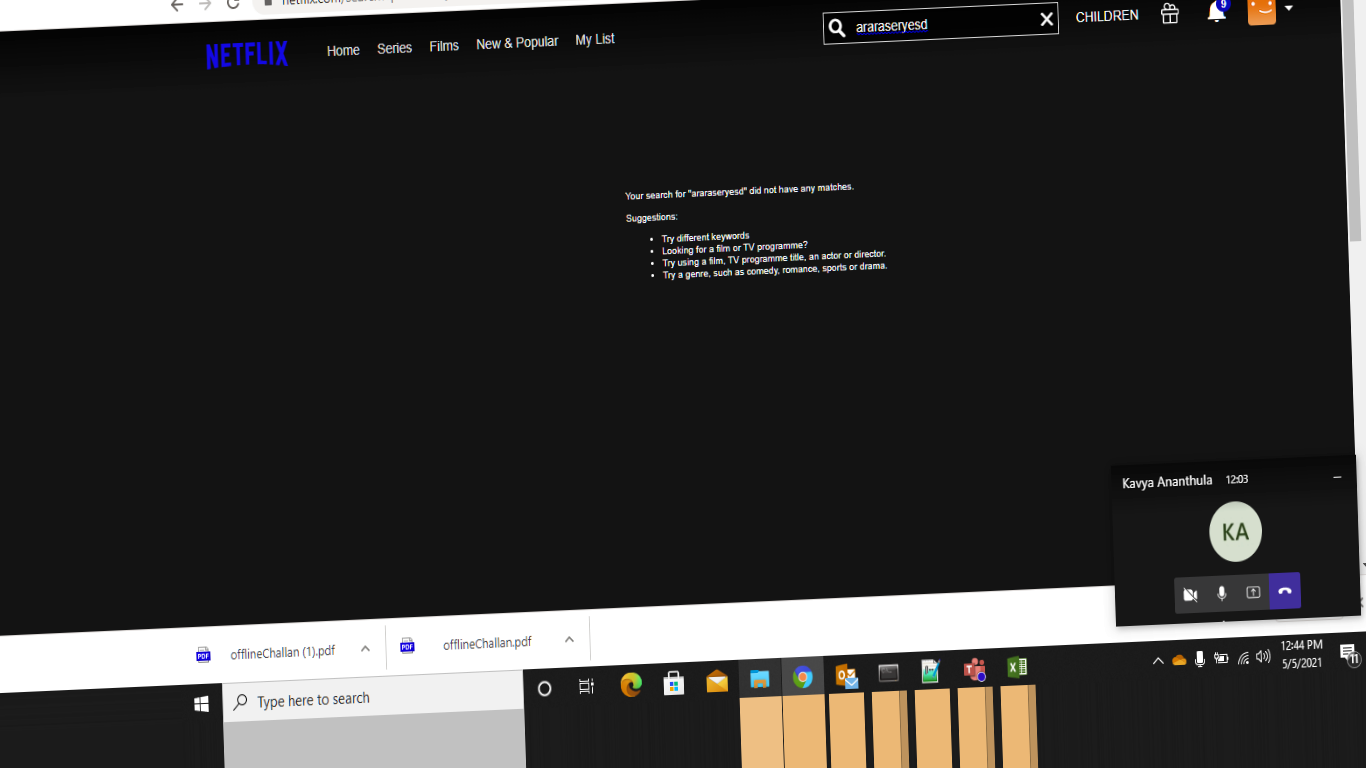mywatchlistbutton: (557, 20, 642, 57)
noresultsfound: (571, 162, 885, 312)
profileicon: (1244, 1, 1298, 34)
searchicon: (822, 11, 846, 41)
searchtextbox: (811, 1, 1072, 48)
